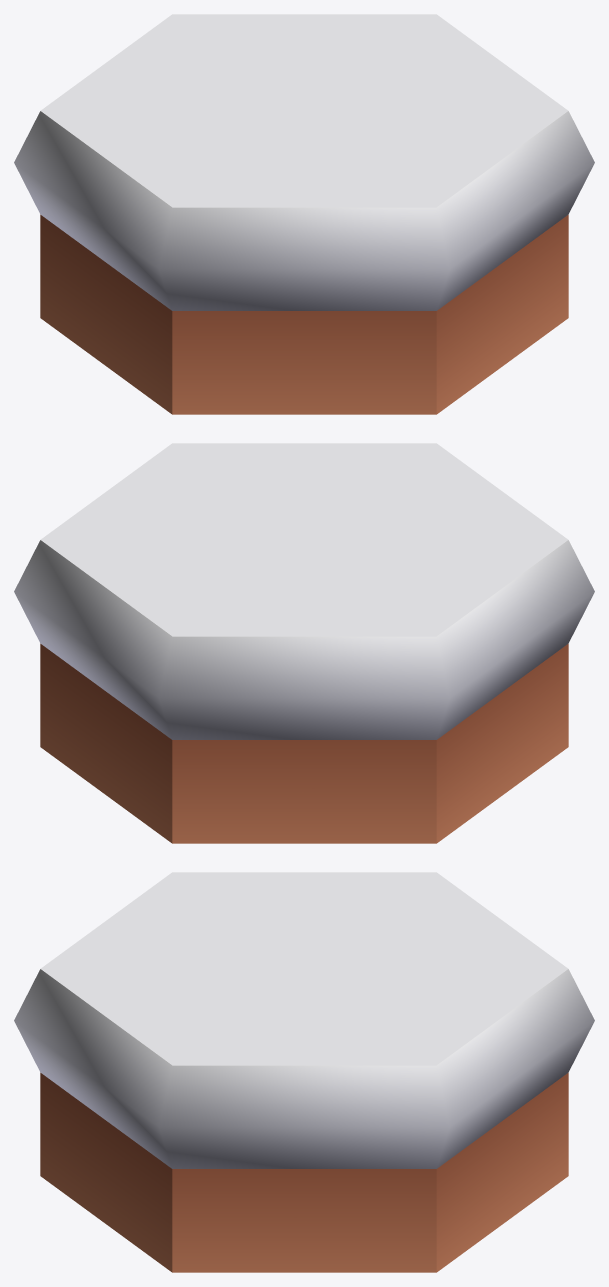
Rendered from block_snow_low_hexagon.glb.
3 renders of one model, top to bottom at view 1: azimuth 30°, elevation 25°; view 2: azimuth 150°, elevation 25°; view 3: azimuth 270°, elevation 25°, orthographic.
Parts seen in each view (by area): view 1: block-snow-low-hexagon; view 2: block-snow-low-hexagon; view 3: block-snow-low-hexagon.
Boxes of the visible parts, <box> form: block-snow-low-hexagon: <box>14,14,594,414</box>; block-snow-low-hexagon: <box>14,443,594,843</box>; block-snow-low-hexagon: <box>14,872,594,1272</box>.
Size of the model in its own units: 1.1 by 0.5 by 1.27.
Materials: 1 (1 with a texture image).
